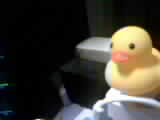duck: (98, 16, 156, 105)
